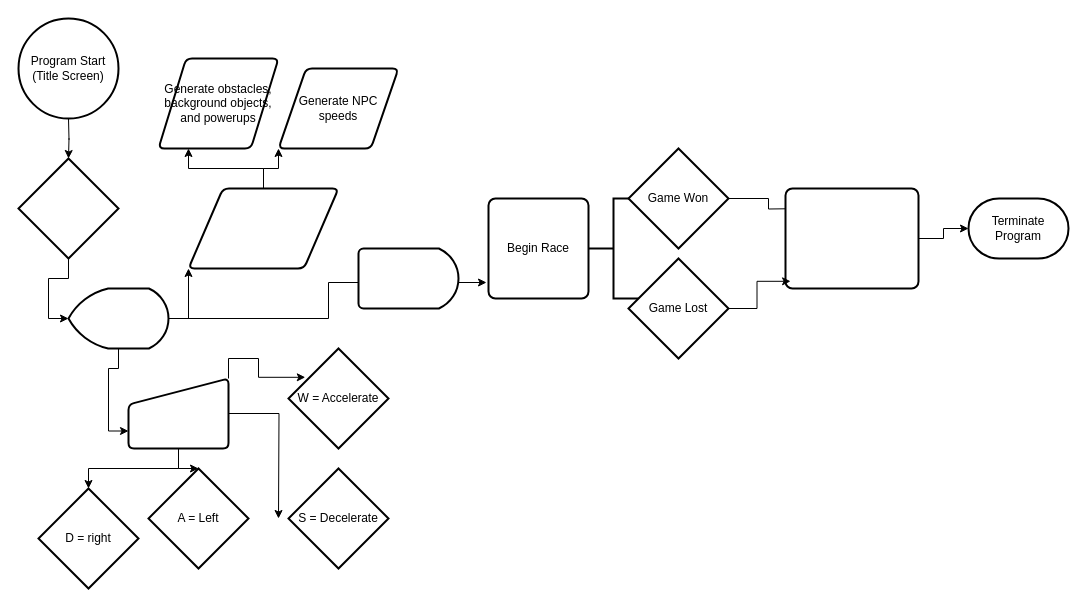
Some shapes in this 1086 by 606 pixel diagram are drawn without their labels. The shapes that lost their labels are listed below. From the top down, each one's box as (x1, y1, x2, y2) in pixels, then its label:
(17, 157, 119, 259): Start Button
(187, 187, 339, 269): Create different Racer objects
(784, 187, 919, 289): Display According Game State (Win/Lose)
(357, 247, 459, 309): Display 3, 2, 1 Count
(67, 287, 169, 349): Generate World
(127, 377, 229, 449): Player Control
